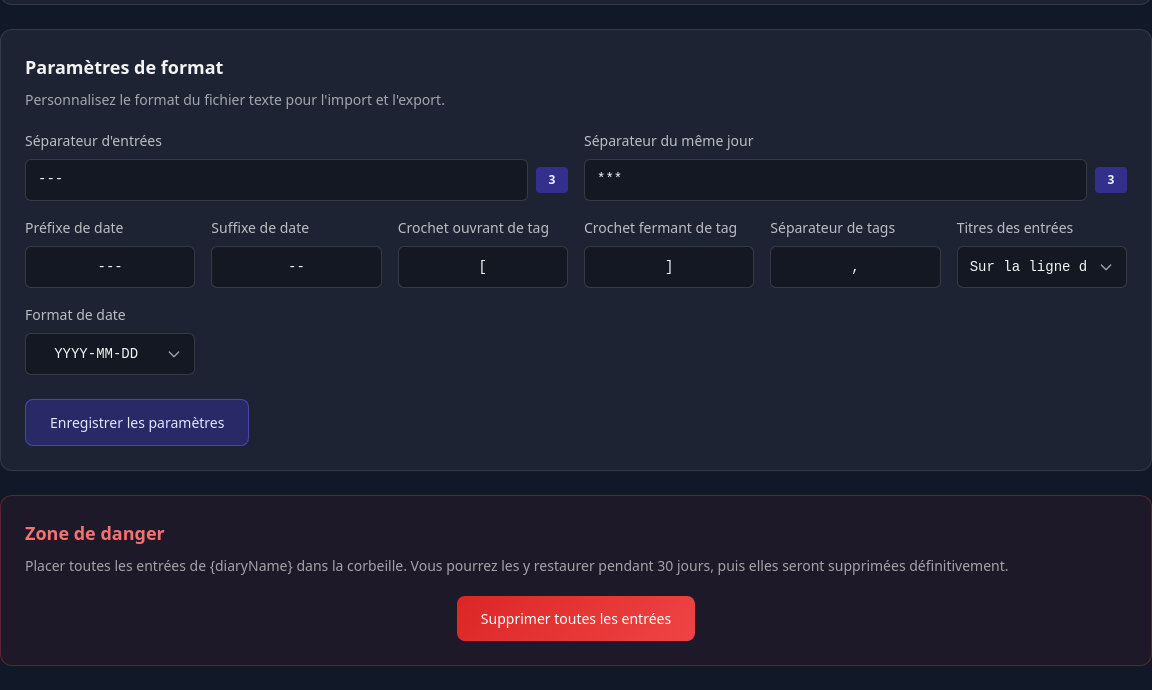
ImportExport refusals › shows the reason a refused delete all gives, in fr
The width and height of the screenshot is (1152, 690).
(page scrolled)
Expected: the button "Enregistrer les paramètres" is shown, [25, 399, 250, 446]
Click the button "Supprimer toutes les entrées": {"x": 576, "y": 619} [457, 596, 695, 641]
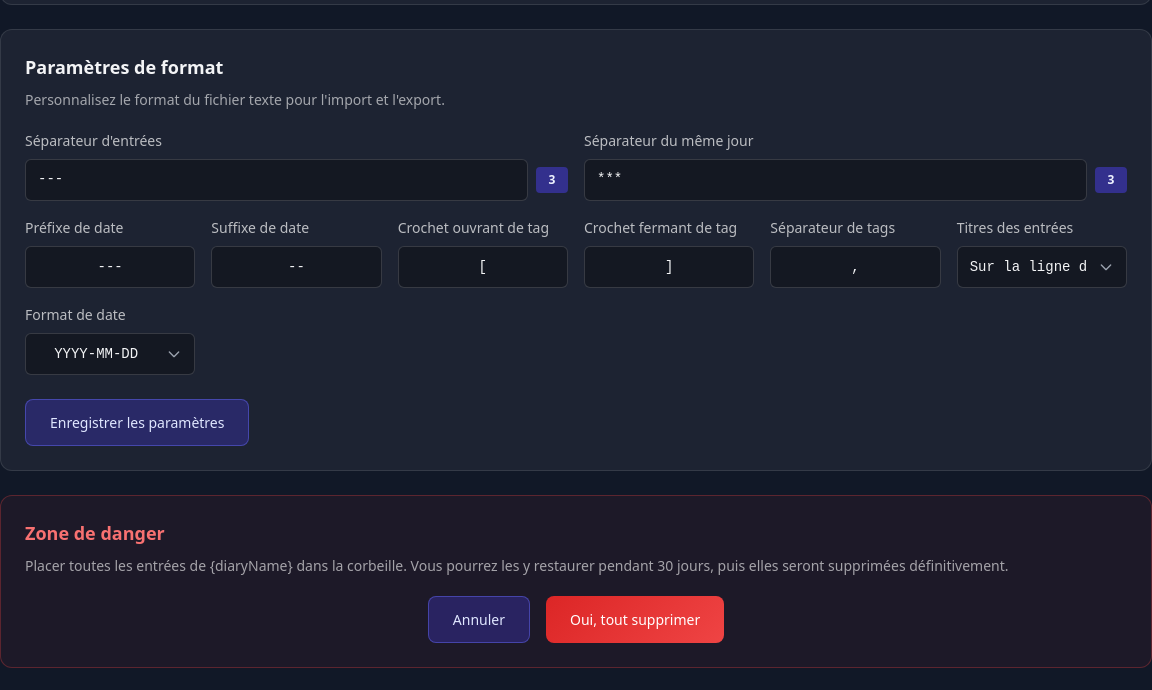
Click the button "Oui, tout supprimer": {"x": 635, "y": 620} [546, 596, 724, 643]
(page scrolled)
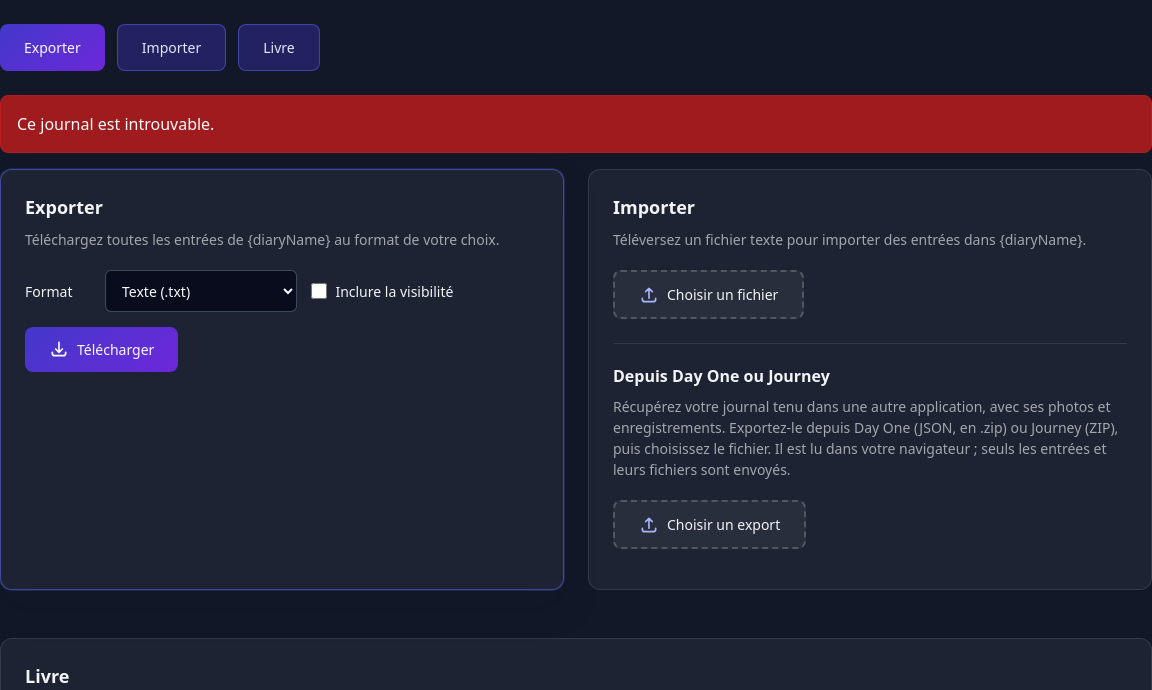
Expected: the text "Ce journal est introuvable." is shown, [0, 95, 1151, 153]
